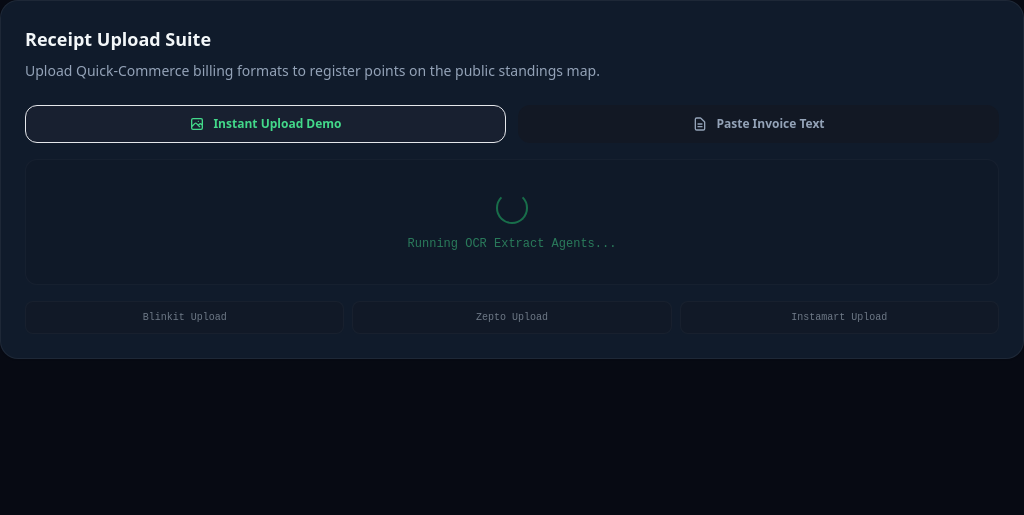
Test: Uploader Component › renders loading/processing state when isProcessing is true in paste mode
The image size is (1024, 515).
Click the button with aria-label "Switch to paste receipt text mode" at (758, 124), box [518,105,999,143]
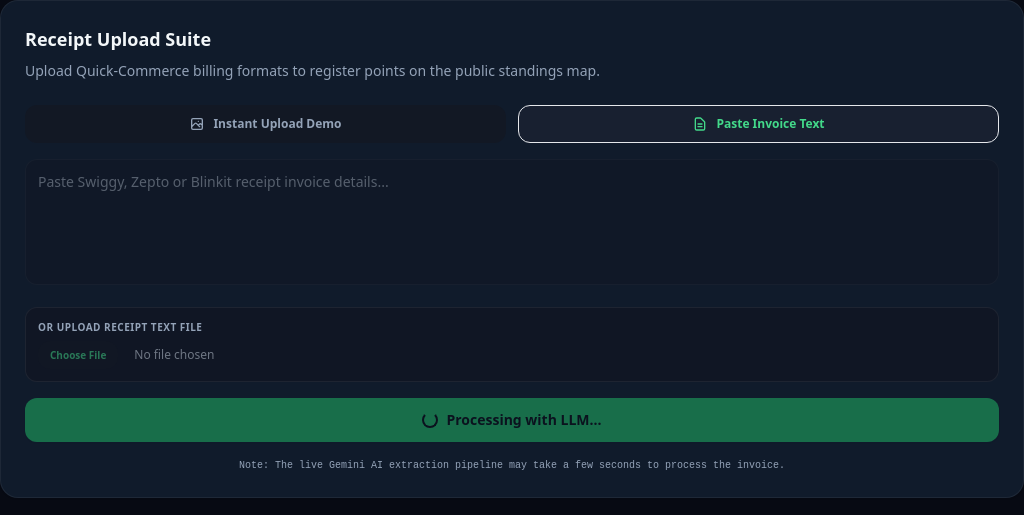
Now the button "Processing with LLM..." is shown, box [25,398,999,442]
